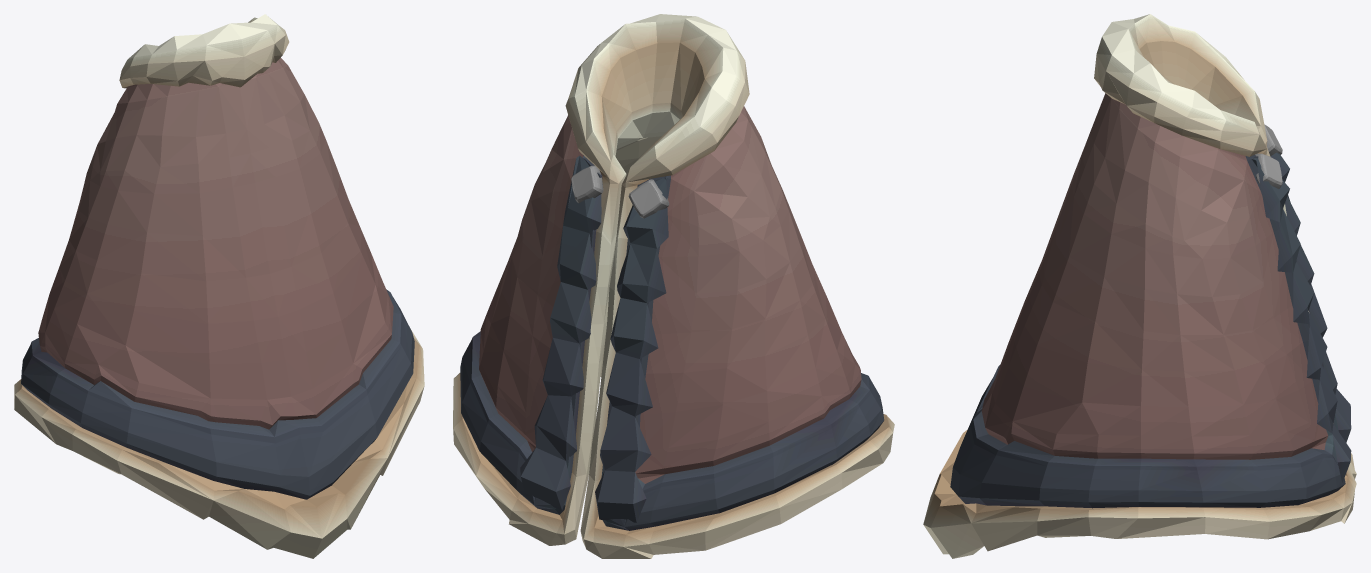
The model's file is CharSkyKid_Wing_AP13LeatherScales_01.glb.
3 renders of one model, left to right at view 1: azimuth 30°, elevation 25°; view 2: azimuth 150°, elevation 25°; view 3: azimuth 270°, elevation 25°, orthographic. The views are drawn at different scales.
Visible parts, largest first — view 1: CharSkyKid_Wing_AP13LeatherScales_01; view 2: CharSkyKid_Wing_AP13LeatherScales_01; view 3: CharSkyKid_Wing_AP13LeatherScales_01.
Boxes of the visible parts, box(x1,y1,x2,y2) form: CharSkyKid_Wing_AP13LeatherScales_01: box(14, 14, 424, 558); CharSkyKid_Wing_AP13LeatherScales_01: box(453, 14, 894, 558); CharSkyKid_Wing_AP13LeatherScales_01: box(923, 14, 1356, 558).
Bounding box in the file's own units: 6.8 × 8.36 × 6.25.
Materials: 1 (1 with a texture image).
